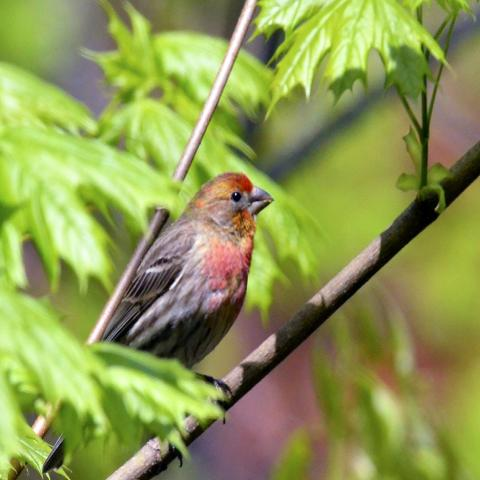bird: (39, 168, 275, 476)
